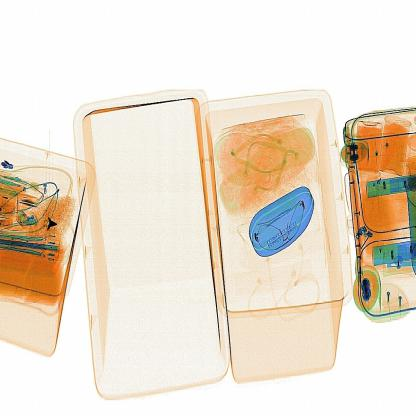gun: (35, 212, 63, 242)
